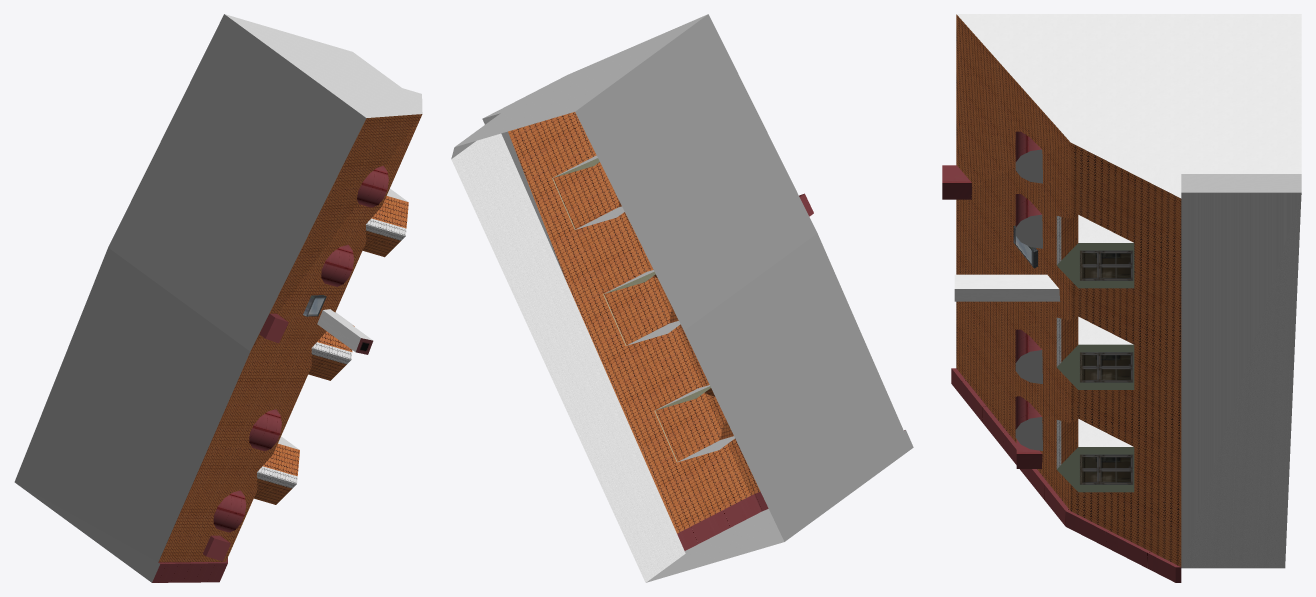
Rendered from Rataskaevu_22_2.obj.
The picture shows the model from 3 angles, left to right: view 1: azimuth 30°, elevation 25°; view 2: azimuth 150°, elevation 25°; view 3: azimuth 270°, elevation 25°; orthographic projection. The views are drawn at different scales.
Parts seen in each view (by area): view 1: Rataskaevu_22_2; view 2: Rataskaevu_22_2; view 3: Rataskaevu_22_2.
Boxes of the visible parts, x1,y1,x2,y2 form: Rataskaevu_22_2: [14, 14, 422, 582]; Rataskaevu_22_2: [451, 14, 913, 582]; Rataskaevu_22_2: [942, 14, 1301, 582].
Bounding box in the file's own units: 17.46 × 22.72 × 12.27.
